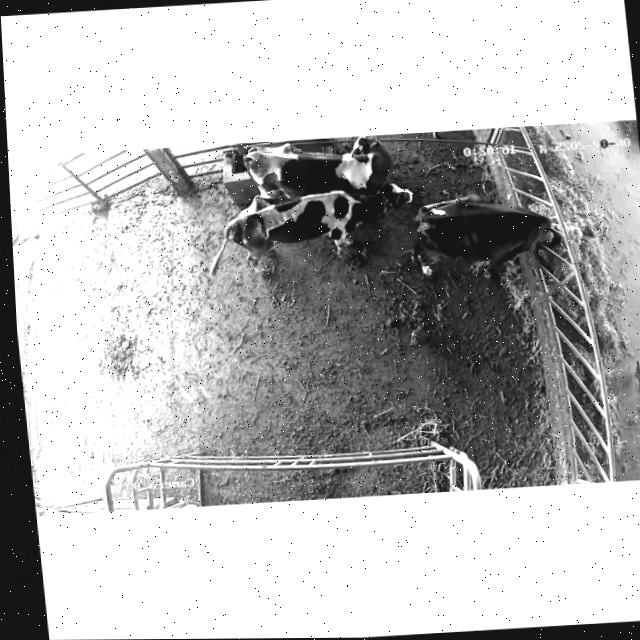stand: (210, 182, 412, 274), (244, 135, 392, 201)
